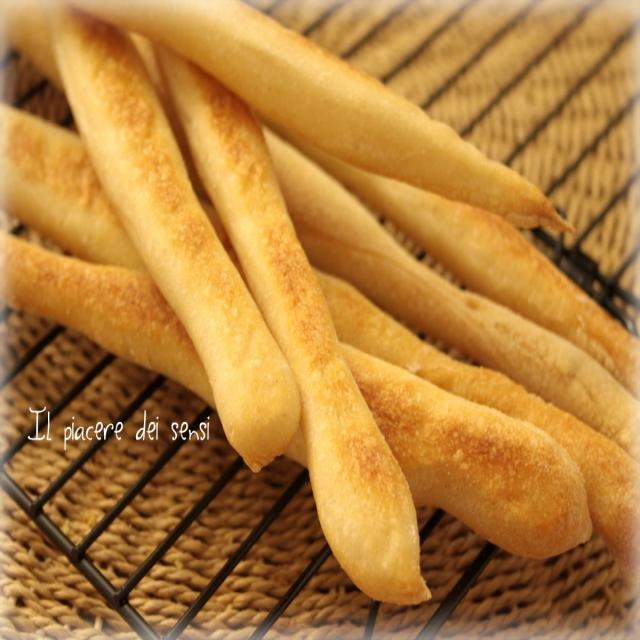Grissini: (9, 19, 637, 541)
